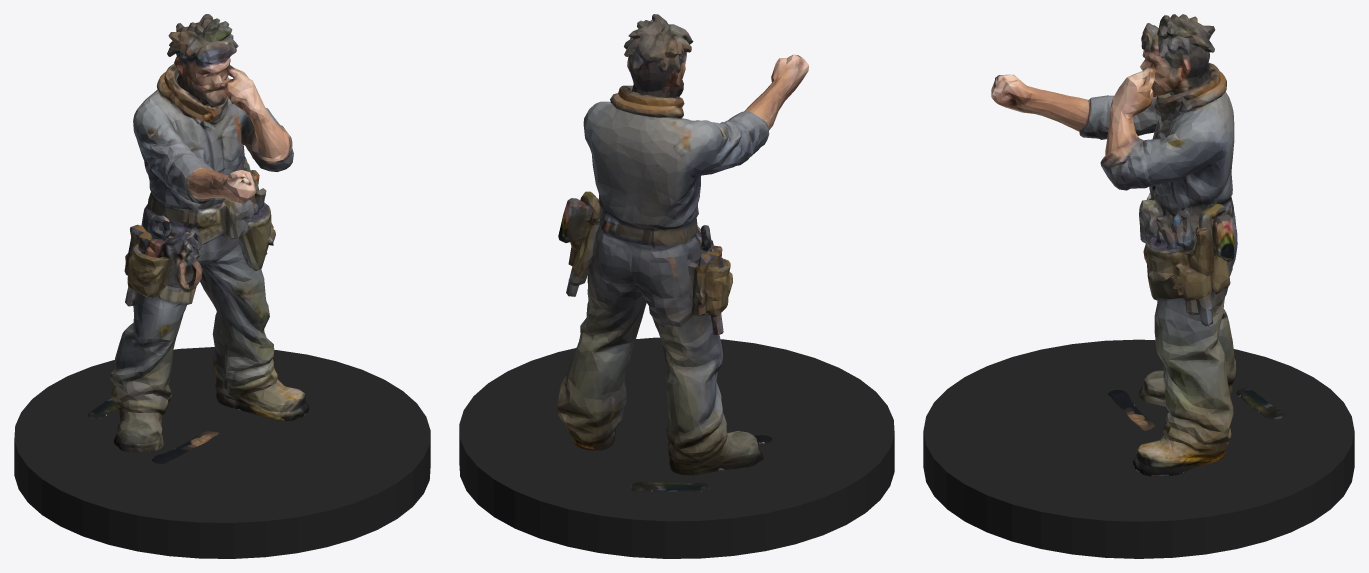
Rendered from enslaved-tech@long.glb.
3 views of the same model, side by side, from view 1: azimuth 30°, elevation 25°; view 2: azimuth 150°, elevation 25°; view 3: azimuth 270°, elevation 25° (orthographic). The views are drawn at different scales.
Visible parts, largest first — view 1: base, figure; view 2: base, figure; view 3: base, figure.
Boxes of the visible parts, left/top/right/bottom form: base: left=14, top=347, right=430, bottom=558; figure: left=87, top=14, right=309, bottom=463; base: left=459, top=337, right=894, bottom=558; figure: left=556, top=14, right=808, bottom=492; base: left=923, top=339, right=1354, bottom=558; figure: left=991, top=14, right=1286, bottom=476.
Bounding box in the file's own units: 1.26 × 1.47 × 1.26.
2 materials, 1 textured.
